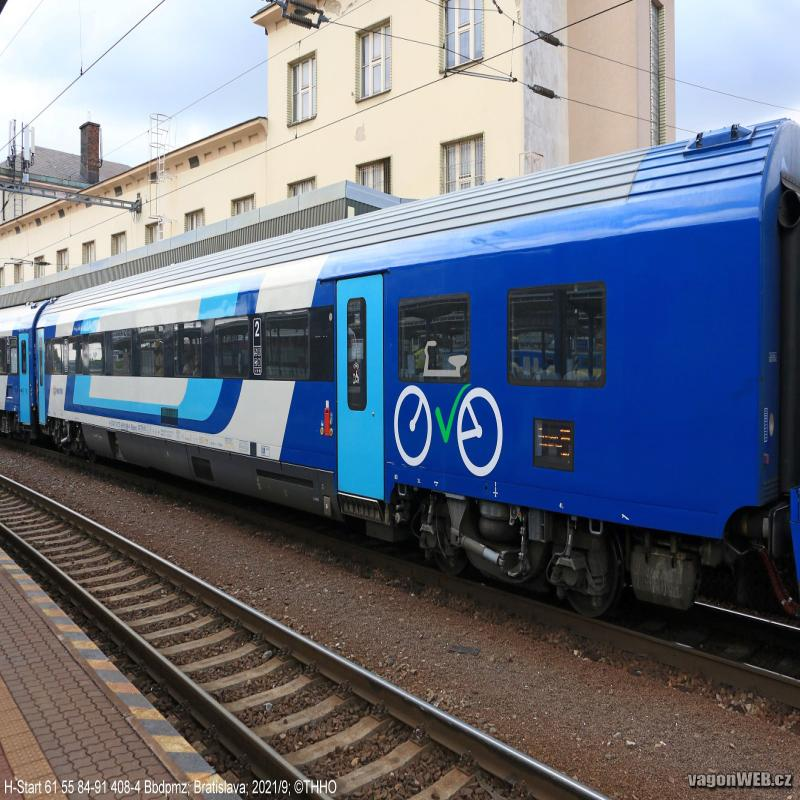train: (37, 113, 800, 687)
